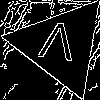V: (36, 20, 78, 71)
